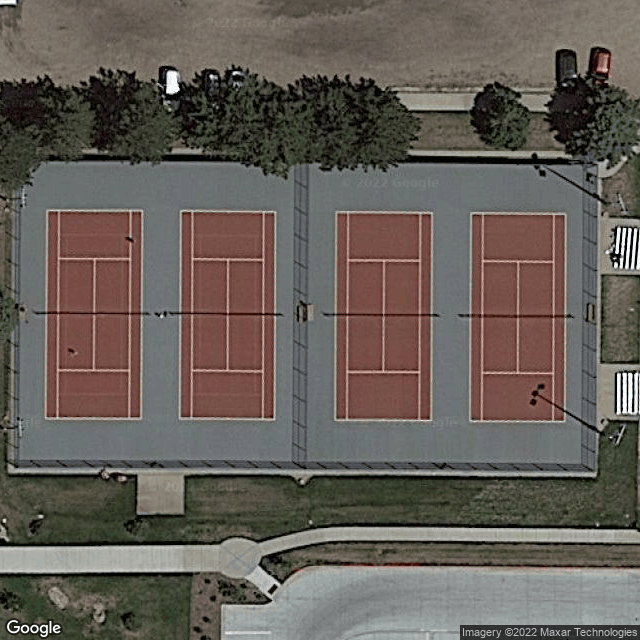Court: (332, 210, 434, 422), (177, 208, 276, 421), (468, 211, 566, 423), (45, 208, 142, 420)
